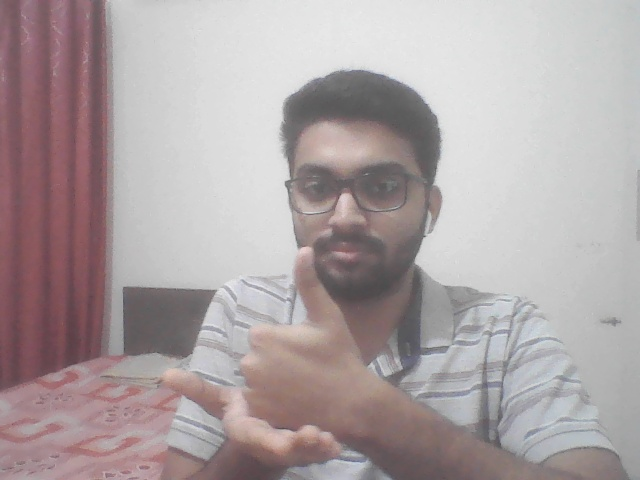help: (145, 234, 394, 471)
